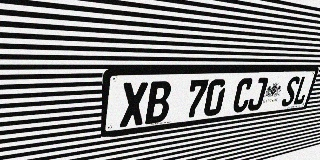0: (203, 79, 227, 117)
7: (183, 80, 209, 119)
B: (145, 81, 172, 124)
C: (231, 78, 254, 113)
J: (246, 77, 269, 111)
L: (292, 76, 312, 105)
S: (280, 76, 301, 107)
X: (120, 82, 148, 128)
